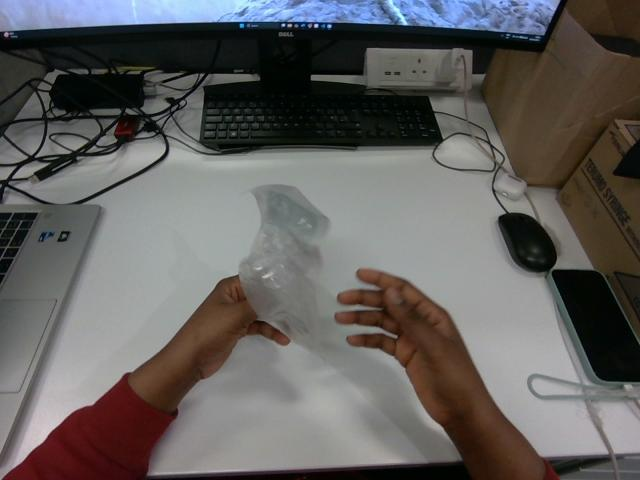gallipot: (239, 185, 329, 354)
